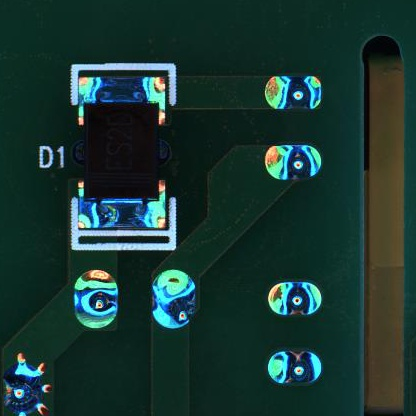spot: (2, 353, 55, 415), (151, 270, 199, 331), (73, 268, 118, 332), (263, 143, 324, 183), (267, 282, 324, 317), (265, 75, 320, 111), (268, 351, 326, 384)
